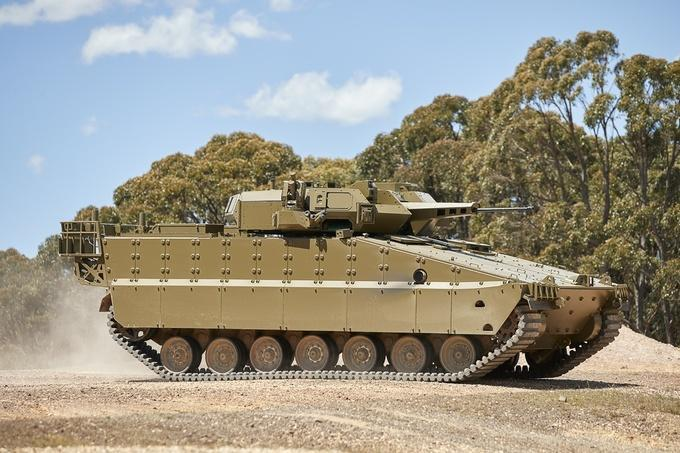MIL_IFV: (60, 176, 628, 384)
